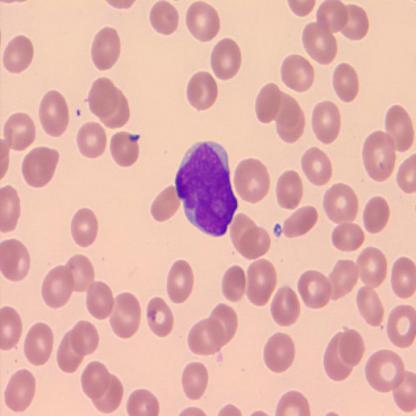Blast: (173, 138, 240, 239)
